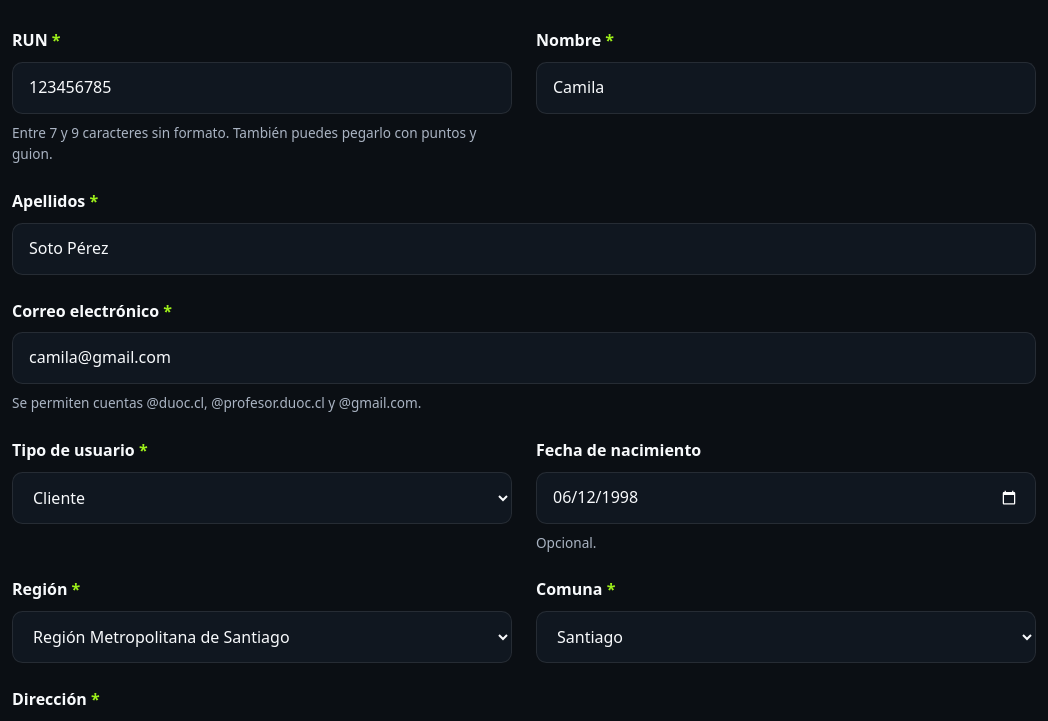
AdminUserForm › precarga el perfil completo y reinicia comuna al cambiar región
Expected: the field labelled "Nombre" holds "Camila", [536,62,1036,114]
Expected: the date field labelled "Fecha de nacimiento" holds "1998-06-12", [536,472,1036,524]
Select "Región de Valparaíso" in the dropdown labelled "Región": (262, 637) [12,611,512,663]
(page scrolled)
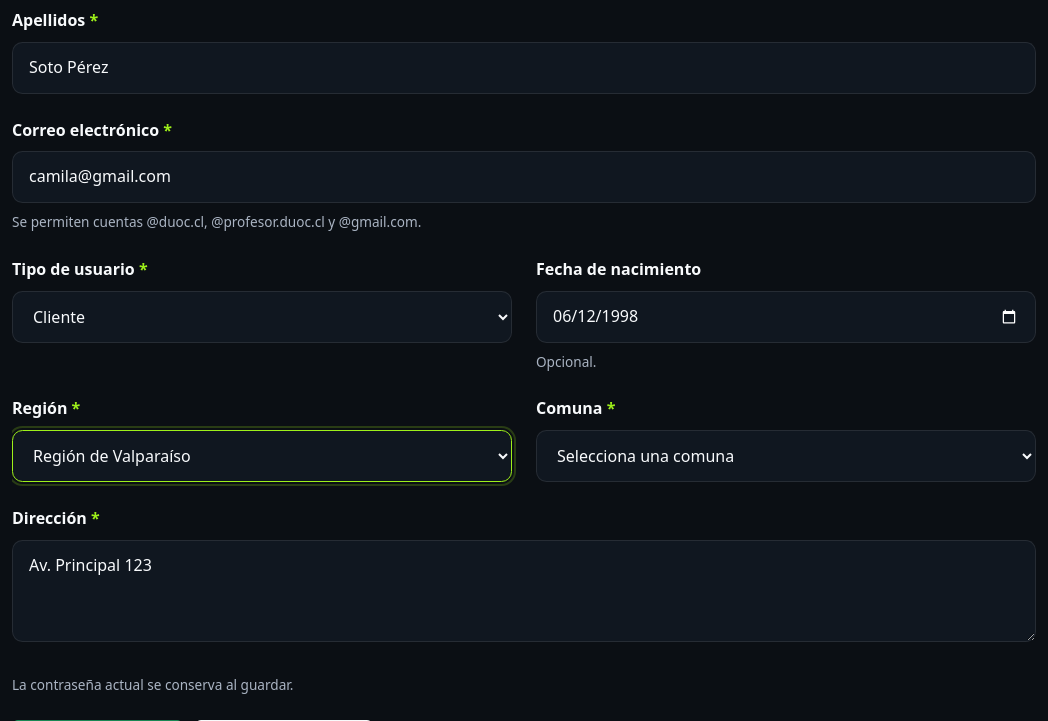
Expected: the text "La contraseña actual se conserva al guardar." is shown, [12,675,293,694]
Now the dropdown labelled "Comuna" shows "Selecciona una comuna", box [536,430,1036,482]
